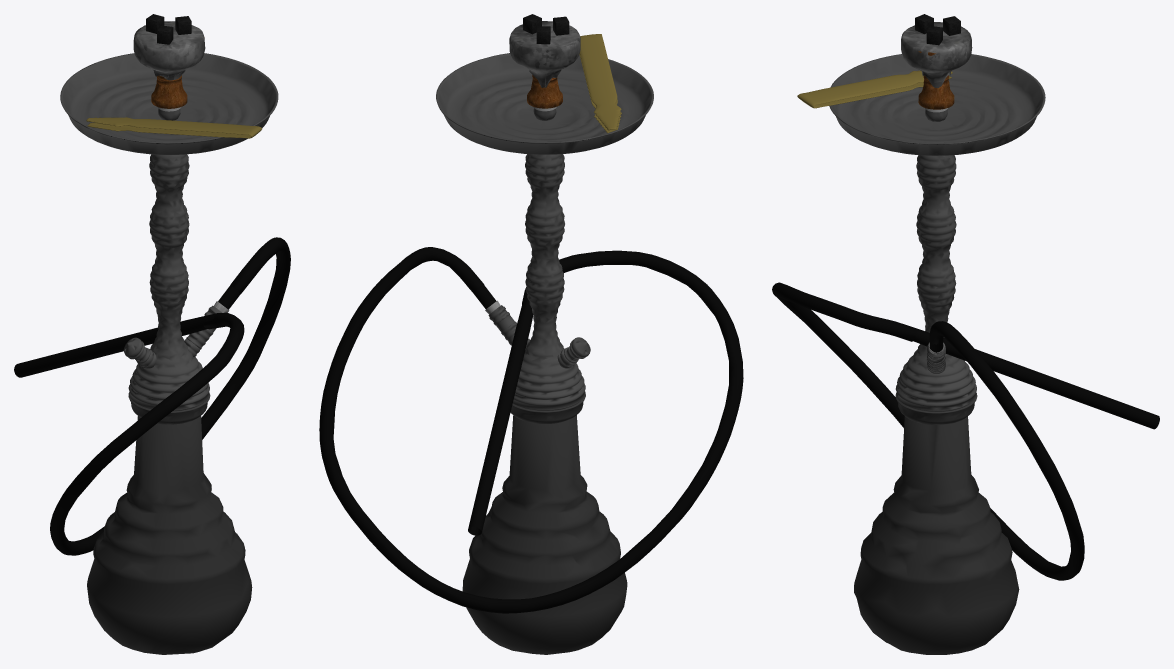
File: hookah_artyrey.glb
The picture shows the model from 3 angles, left to right: view 1: azimuth 30°, elevation 25°; view 2: azimuth 150°, elevation 25°; view 3: azimuth 270°, elevation 25°; orthographic projection.
Size of the model in its own units: 0.3874 by 0.7327 by 0.4217.
Materials: 10 (3 with a texture image).
